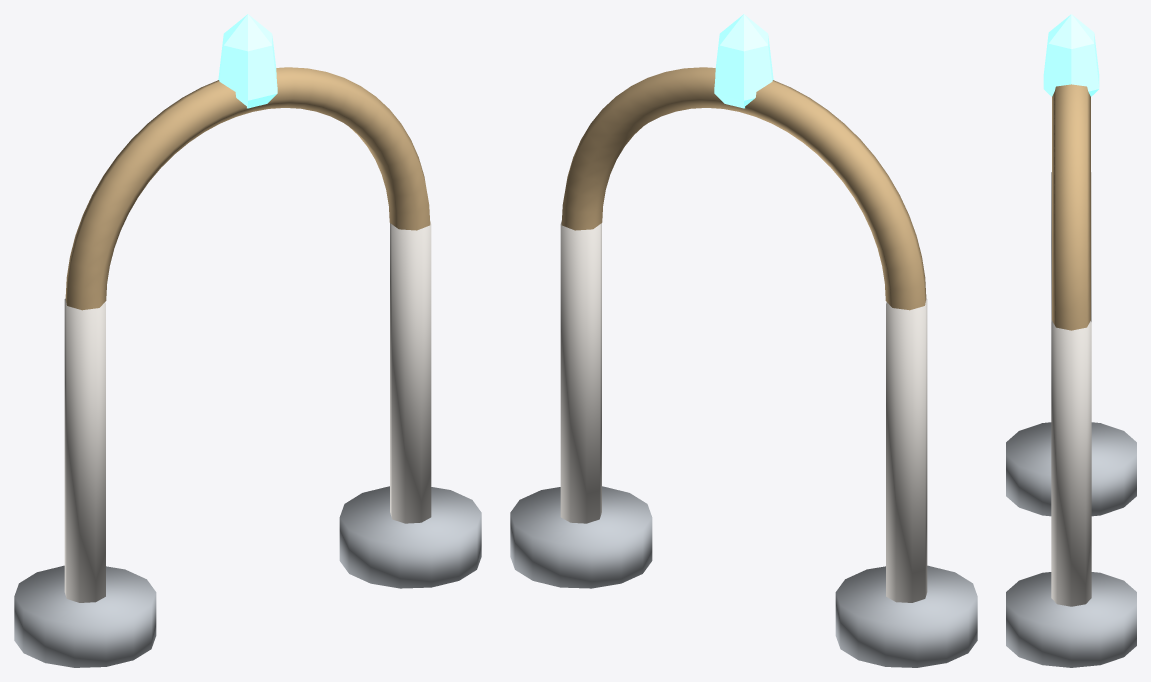
Rendered from way_petite_goal_arch.glb.
3 views of the same model, side by side, from view 1: azimuth 30°, elevation 25°; view 2: azimuth 150°, elevation 25°; view 3: azimuth 270°, elevation 25° (orthographic). The views are drawn at different scales.
Parts seen in each view (by area): view 1: WAY_petite_goal_arch_halo, WAY_petite_goal_arch_post_0, WAY_petite_goal_arch_post_1, WAY_petite_goal_arch_base_0, WAY_petite_goal_arch_base_1, WAY_petite_goal_arch_crown; view 2: WAY_petite_goal_arch_halo, WAY_petite_goal_arch_post_0, WAY_petite_goal_arch_post_1, WAY_petite_goal_arch_base_0, WAY_petite_goal_arch_base_1, WAY_petite_goal_arch_crown; view 3: WAY_petite_goal_arch_post_1, WAY_petite_goal_arch_base_1, WAY_petite_goal_arch_halo, WAY_petite_goal_arch_base_0, WAY_petite_goal_arch_crown, WAY_petite_goal_arch_post_0.
Boxes of the visible parts, left/top/right/bottom form: WAY_petite_goal_arch_halo: left=65, top=67, right=430, bottom=310; WAY_petite_goal_arch_post_0: left=64, top=298, right=105, bottom=602; WAY_petite_goal_arch_post_1: left=390, top=220, right=431, bottom=523; WAY_petite_goal_arch_base_0: left=14, top=565, right=156, bottom=667; WAY_petite_goal_arch_base_1: left=339, top=486, right=481, bottom=588; WAY_petite_goal_arch_crown: left=218, top=14, right=277, bottom=108; WAY_petite_goal_arch_halo: left=561, top=67, right=926, bottom=310; WAY_petite_goal_arch_post_0: left=886, top=298, right=927, bottom=602; WAY_petite_goal_arch_post_1: left=560, top=220, right=601, bottom=523; WAY_petite_goal_arch_base_0: left=835, top=565, right=977, bottom=667; WAY_petite_goal_arch_base_1: left=510, top=486, right=652, bottom=588; WAY_petite_goal_arch_crown: left=714, top=14, right=773, bottom=108; WAY_petite_goal_arch_post_1: left=1051, top=321, right=1091, bottom=606; WAY_petite_goal_arch_base_1: left=1006, top=572, right=1136, bottom=667; WAY_petite_goal_arch_halo: left=1052, top=84, right=1090, bottom=330; WAY_petite_goal_arch_base_0: left=1006, top=422, right=1136, bottom=516; WAY_petite_goal_arch_crown: left=1043, top=14, right=1099, bottom=96; WAY_petite_goal_arch_post_0: left=1051, top=172, right=1091, bottom=321.
Bounding box in the file's own units: 1.82 × 2.26 × 0.4875.
